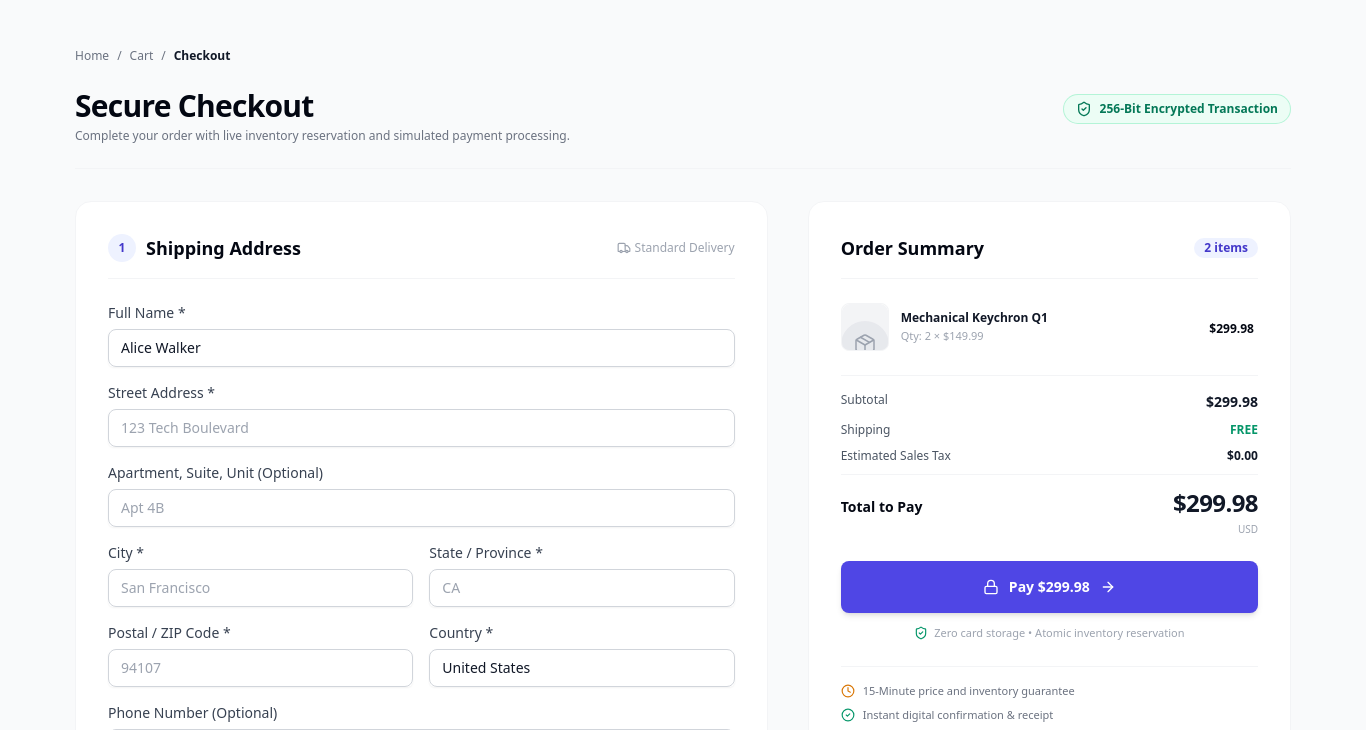
it: Checkout & Payment Integration (Phase 6) › handles payment decline (HTTP 402) safely and redirects to payment status for retry
The width and height of the screenshot is (1366, 730).
Check: the heading "Secure Checkout" is shown, box [75, 85, 314, 126]
Type "742 Evergreen Terrace" into the field labelled "Street Address *" at point(421, 428), box [108, 409, 735, 447]
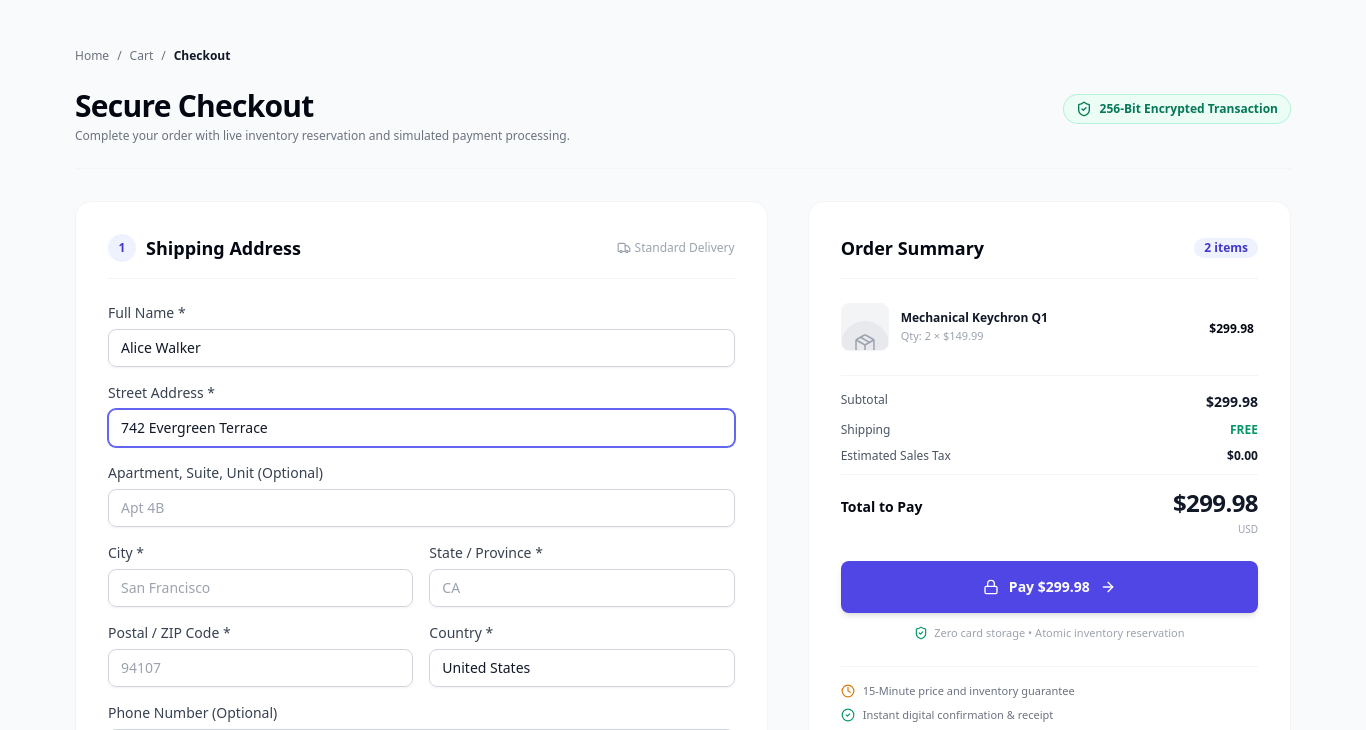
Type "Springfield" into the field labelled "City *" at point(261, 588), box [108, 569, 413, 607]
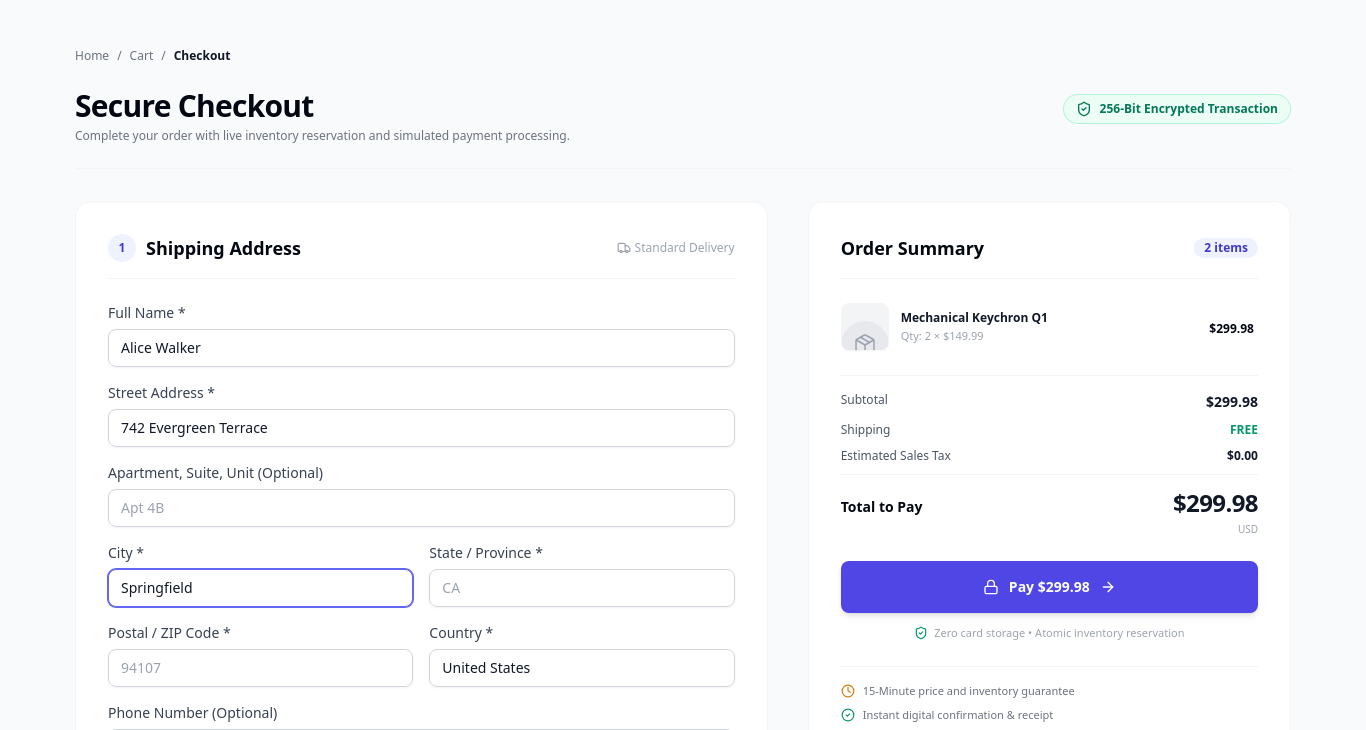
Type "OR" into the field labelled "State / Province *" at point(582, 588), box [429, 569, 735, 607]
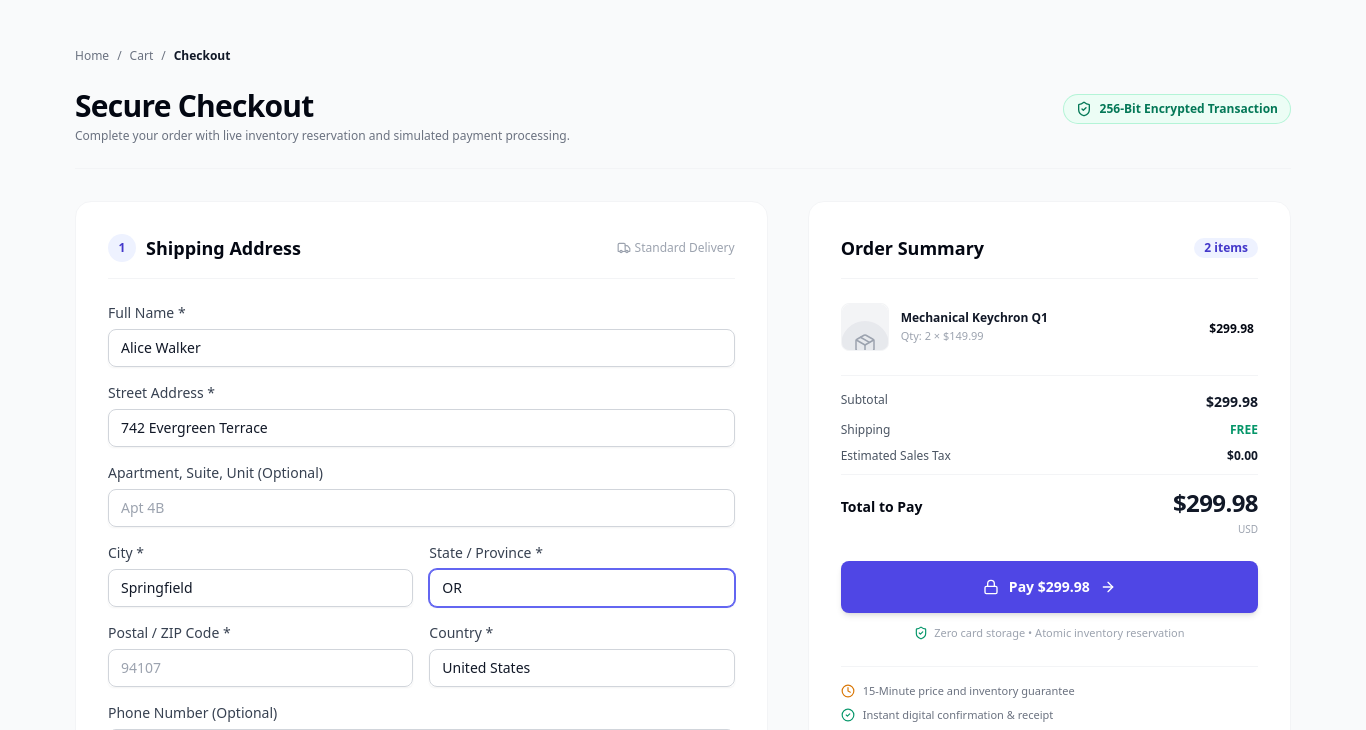
Type "97477" into the field labelled "Postal / ZIP Code *" at point(261, 668), box [108, 649, 413, 687]
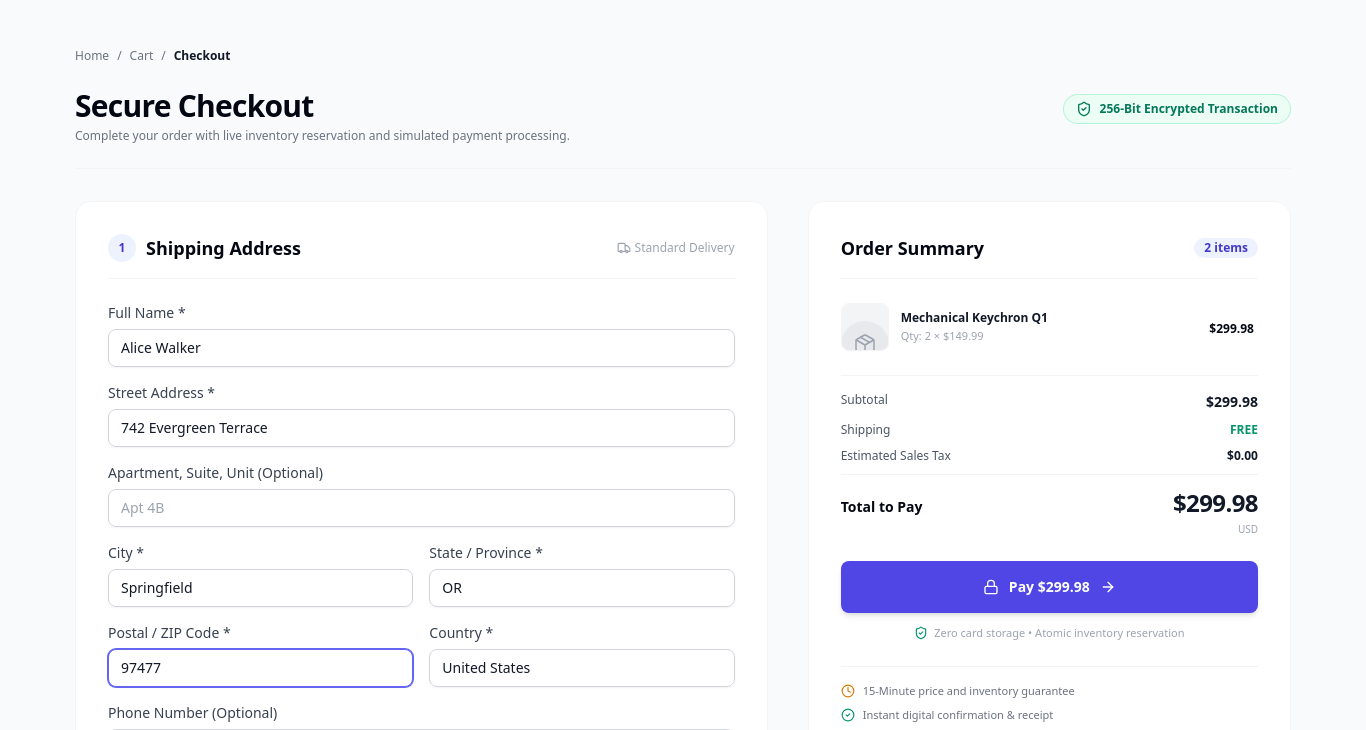
Click the button "Pay $299.98" at point(1049, 587), box [841, 561, 1258, 613]
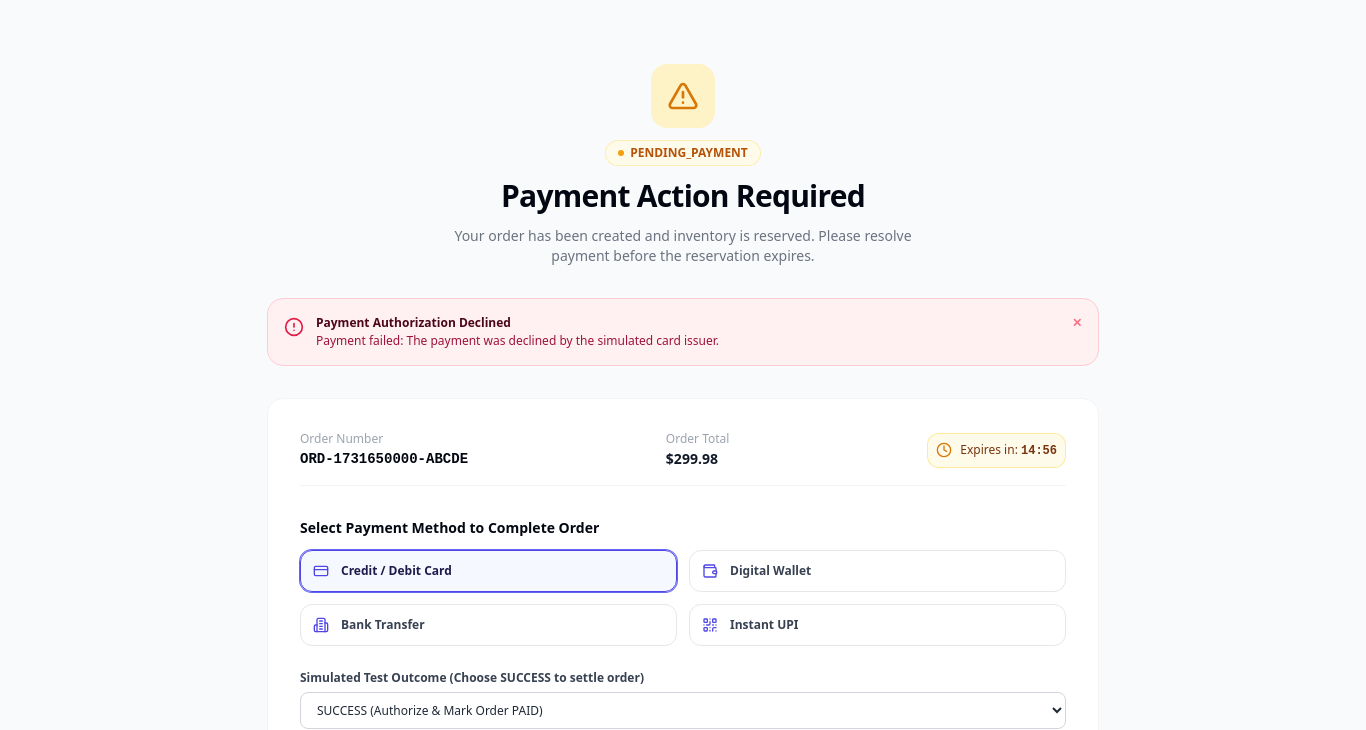
Check: the heading "Payment Action Required" is shown, box [501, 175, 865, 216]
Check: the text "The payment was declined by the simulated card issuer" is shown, box [316, 332, 719, 349]
Check: the text "Expires in: 14:56" is shown, box [960, 440, 1057, 458]
